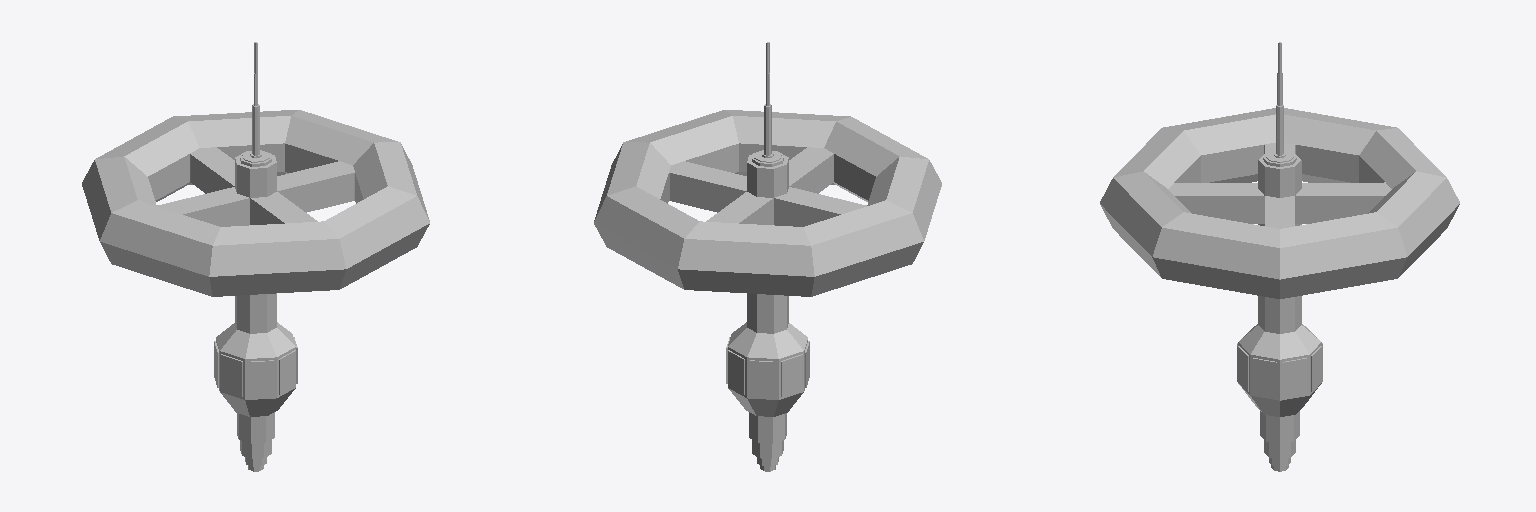
The model's file is bad_ship.obj.
3 views of the same model, side by side, from view 1: azimuth 30°, elevation 25°; view 2: azimuth 150°, elevation 25°; view 3: azimuth 270°, elevation 25° (orthographic).
Parts seen in each view (by area): view 1: Cylinder, Cylinder.001; view 2: Cylinder, Cylinder.001; view 3: Cylinder, Cylinder.001.
Part boxes in pixels (x1,y1,x2,y2): Cylinder: (82,42,429,471); Cylinder.001: (214,342,295,397); Cylinder: (594,42,941,471); Cylinder.001: (728,342,809,397); Cylinder: (1100,42,1459,471); Cylinder.001: (1237,346,1322,397).
Size of the model in its own units: 2.5 by 3.26 by 2.5.